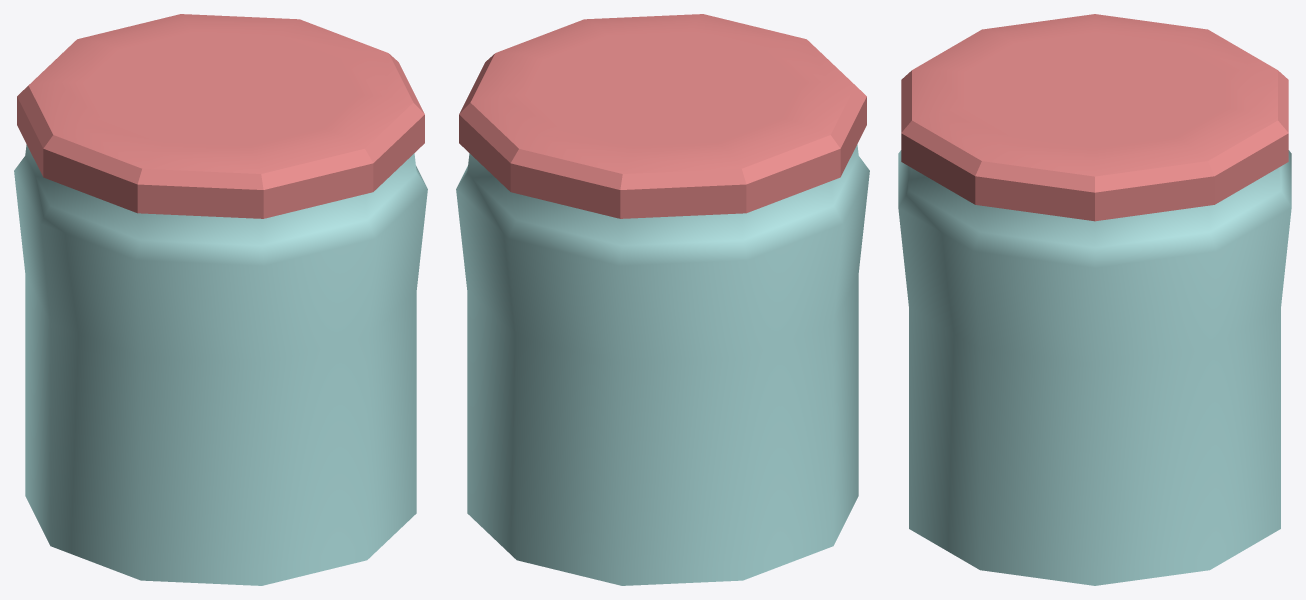
The model's file is jar.fbx.
The picture shows the model from 3 angles, left to right: view 1: azimuth 30°, elevation 25°; view 2: azimuth 150°, elevation 25°; view 3: azimuth 270°, elevation 25°; orthographic projection.
Parts seen in each view (by area): view 1: pCylinder3; view 2: pCylinder3; view 3: pCylinder3.
Boxes of the visible parts, x1,y1,x2,y2 form: pCylinder3: [14, 14, 427, 585]; pCylinder3: [456, 14, 869, 585]; pCylinder3: [898, 14, 1291, 585].
Bounding box in the file's own units: 5.24 × 5.89 × 4.98.
